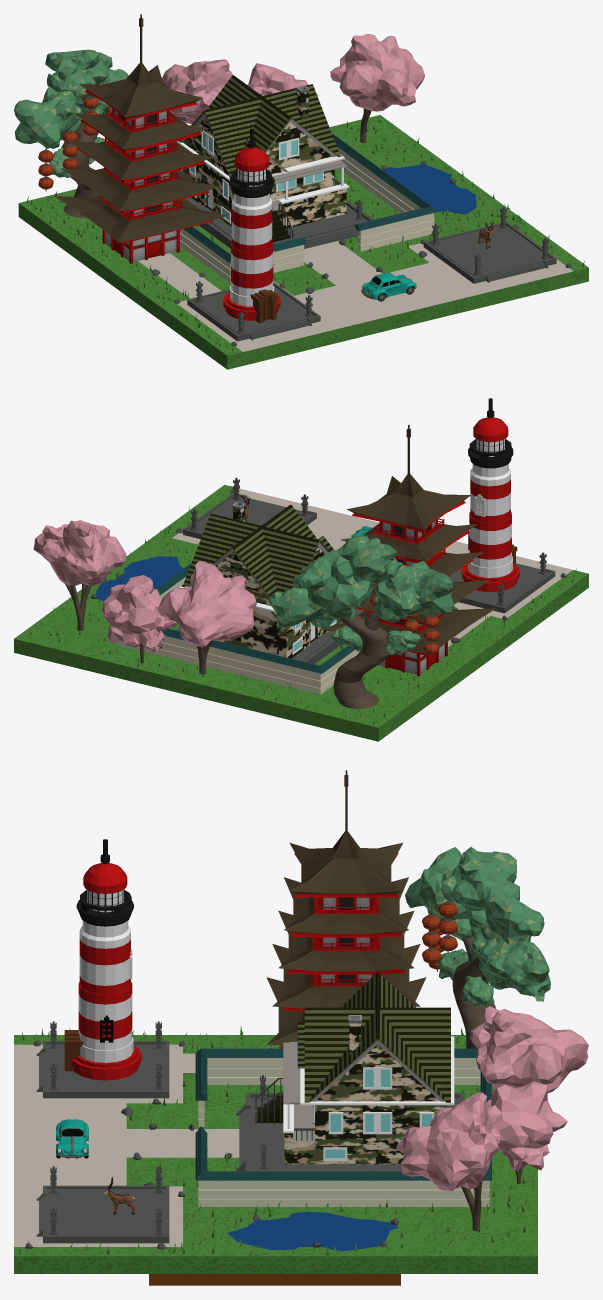
3 renders of one model, top to bottom at view 1: azimuth 30°, elevation 25°; view 2: azimuth 150°, elevation 25°; view 3: azimuth 270°, elevation 25°, orthographic. The views are drawn at different scales.
Parts seen in each view (by area): view 1: Cube.005, Cube.001, OBJRANDOM_LIGHTHOUSE, VEHICLES_VOLKSWAGEN; view 2: Cube.005, Cube.001, OBJRANDOM_LIGHTHOUSE; view 3: Cube.005, Cube.001, OBJRANDOM_LIGHTHOUSE, UNDERGROUND_ART_PIECE_VAN_GOGH, VEHICLES_VOLKSWAGEN.
Part boxes in pixels (box(x1,y1,x2,y2)): Cube.005: box(14, 14, 588, 369); Cube.001: box(176, 75, 349, 242); OBJRANDOM_LIGHTHOUSE: box(223, 128, 280, 323); VEHICLES_VOLKSWAGEN: box(361, 272, 416, 301); Cube.005: box(14, 425, 588, 741); Cube.001: box(179, 501, 341, 658); OBJRANDOM_LIGHTHOUSE: box(461, 398, 519, 591); Cube.005: box(14, 770, 588, 1273); Cube.001: box(255, 972, 454, 1164); OBJRANDOM_LIGHTHOUSE: box(64, 839, 141, 1080); UNDERGROUND_ART_PIECE_VAN_GOGH: box(149, 1274, 400, 1285); VEHICLES_VOLKSWAGEN: box(56, 1119, 88, 1158).
Bounding box in the file's own units: 4528 × 2816 × 4389.
44 materials, 8 textured.
